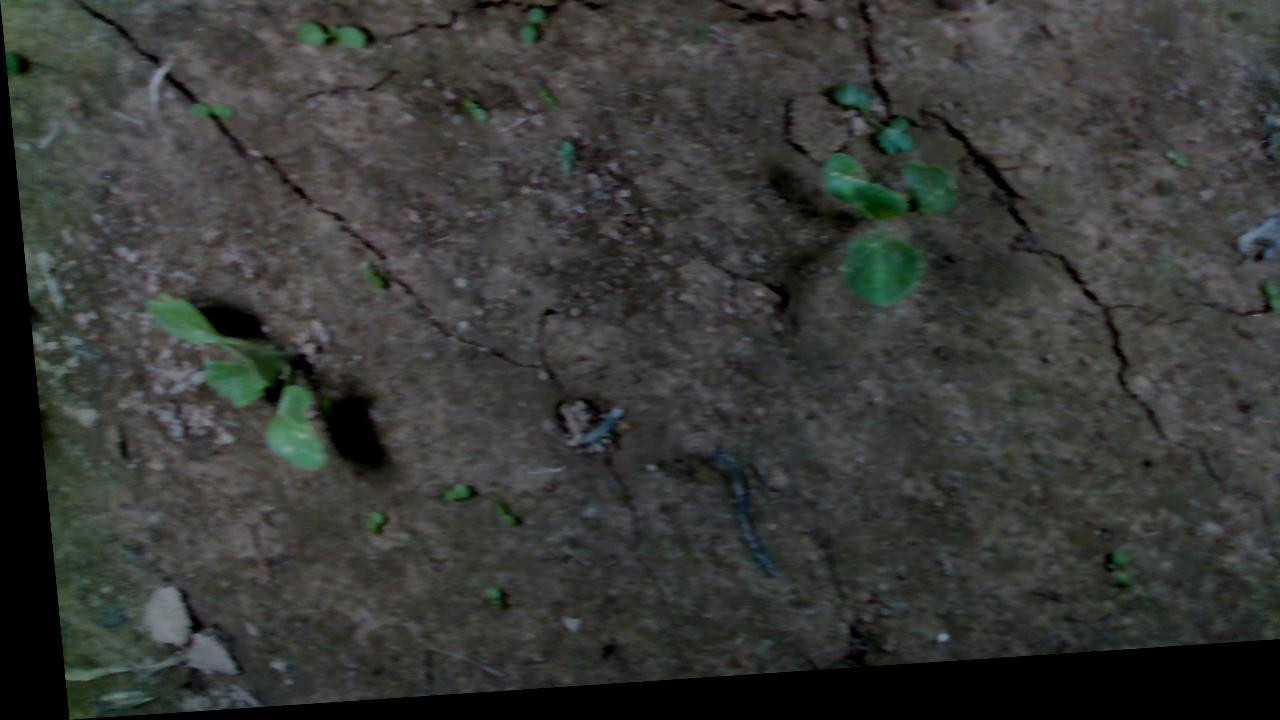weed: (288, 21, 367, 59), (512, 12, 546, 53), (181, 100, 234, 124), (548, 147, 573, 185), (1252, 296, 1276, 329)
